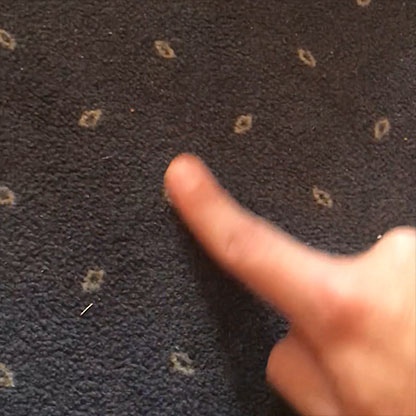fingertip: (152, 145, 214, 207)
